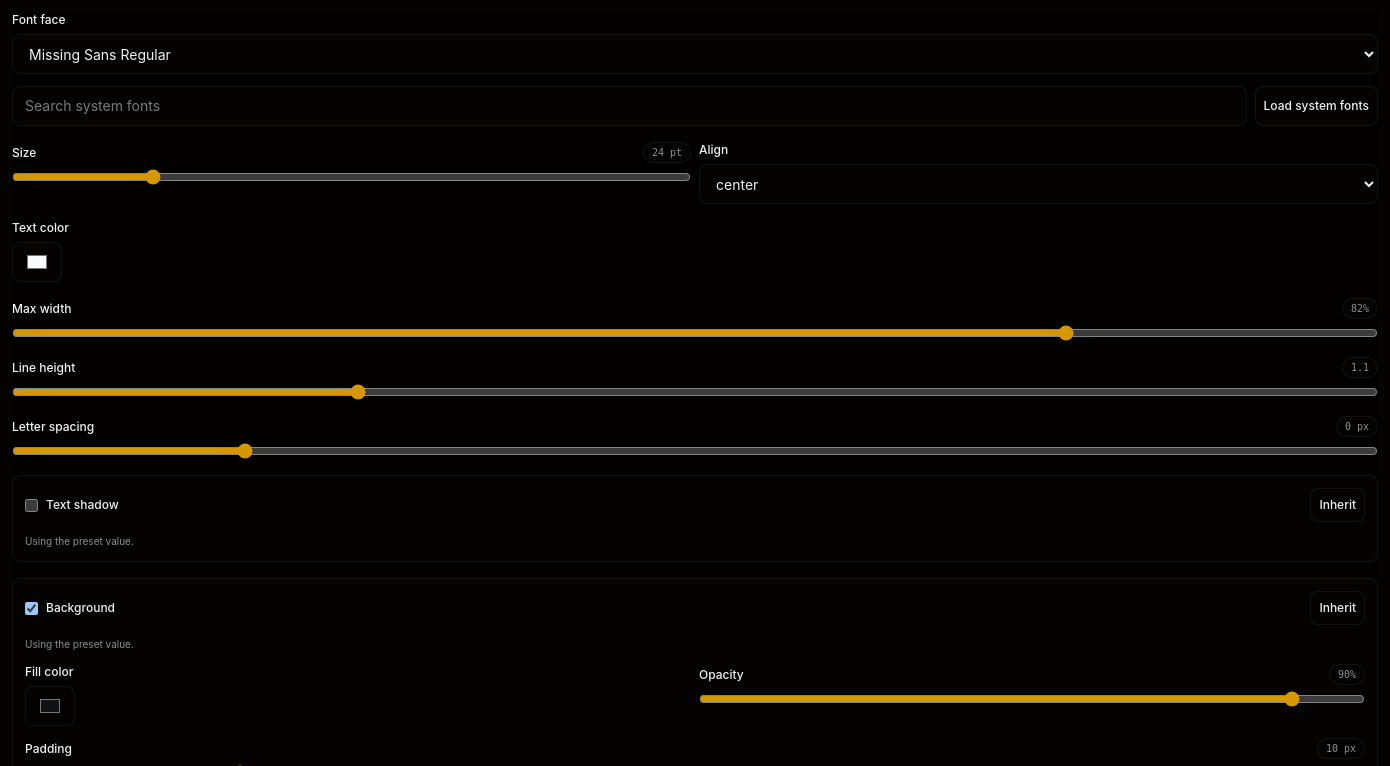
it: TextAppearanceControls › warns when the selected system face is missing from the loaded catalog
Click the button "Load system fonts" at (1316, 106), box [1255,86,1378,126]
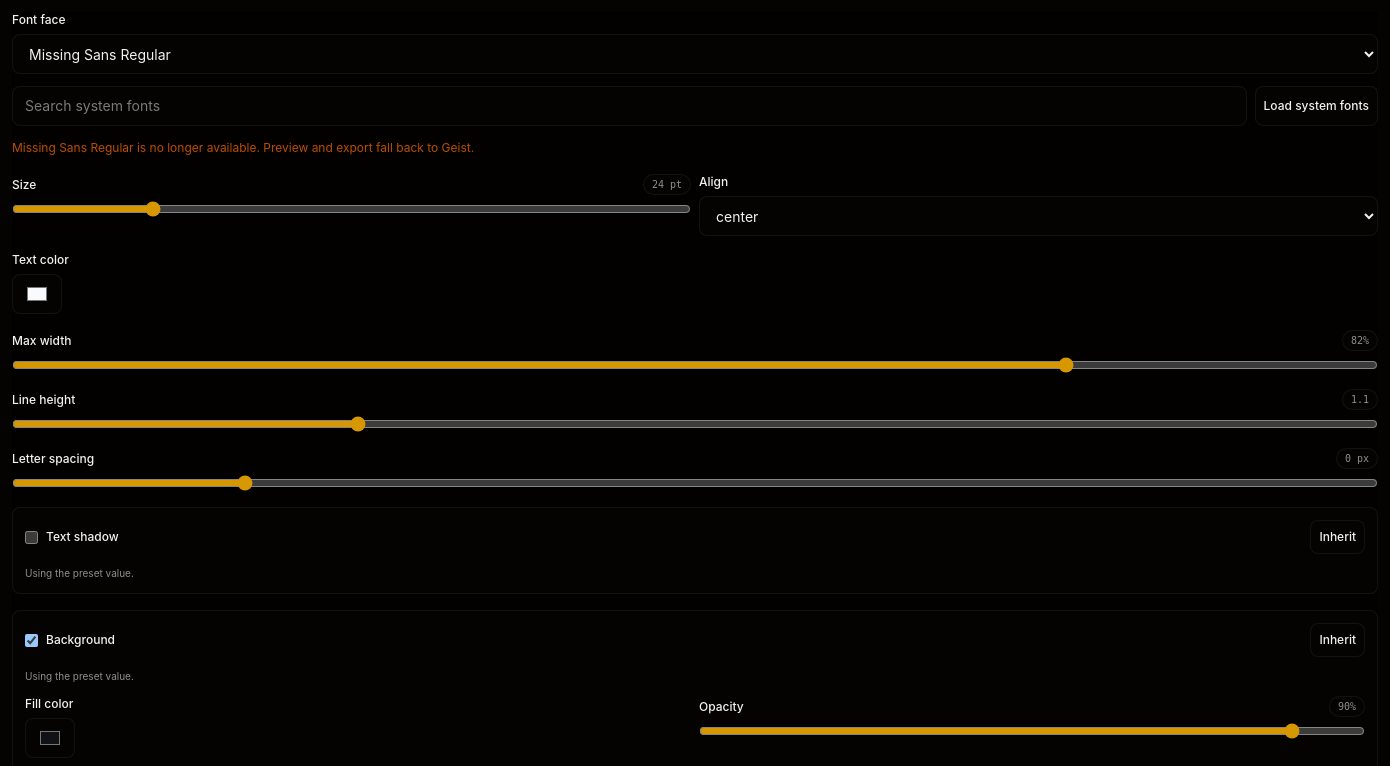
Now the message shows "Missing Sans Regular is no longer available", box [12,140,474,155]
